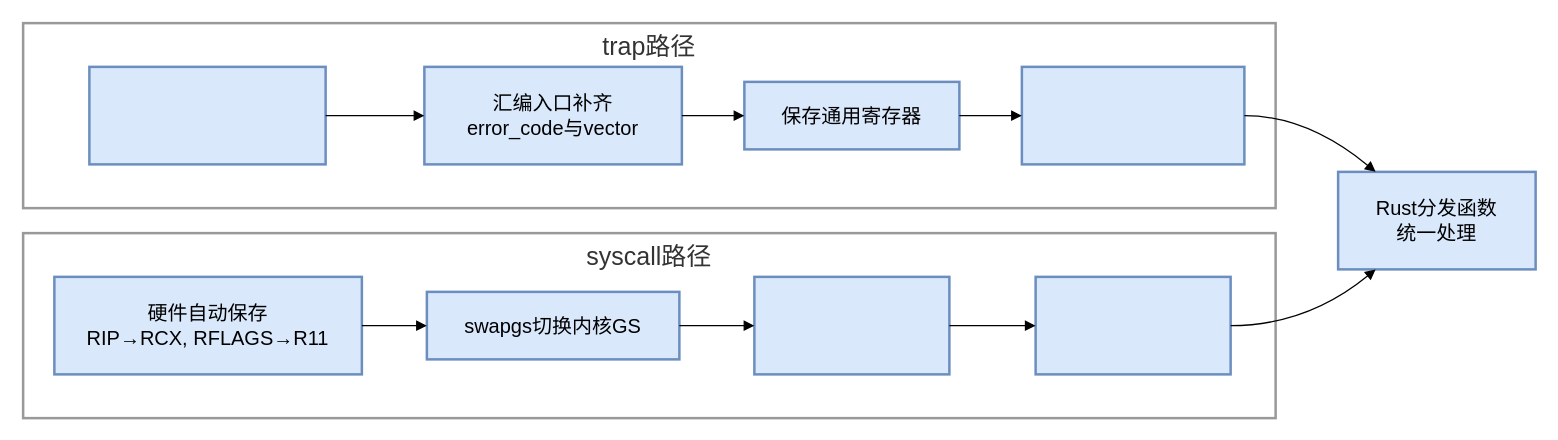
Some shapes in this 1558 by 440 pixel diagram are drawn without their labels. The centre of each missing label's shape, as x and y in pixels:
"CPU自动压入 error_code (部分)" goes at point 207,115.
"暂存用户RSP 切换到内核栈" goes at point 851,325.
"软件保存全部 通用寄存器" goes at point 1132,325.
"通过CS.DPL判断 来源特权级" goes at point 1132,115.
